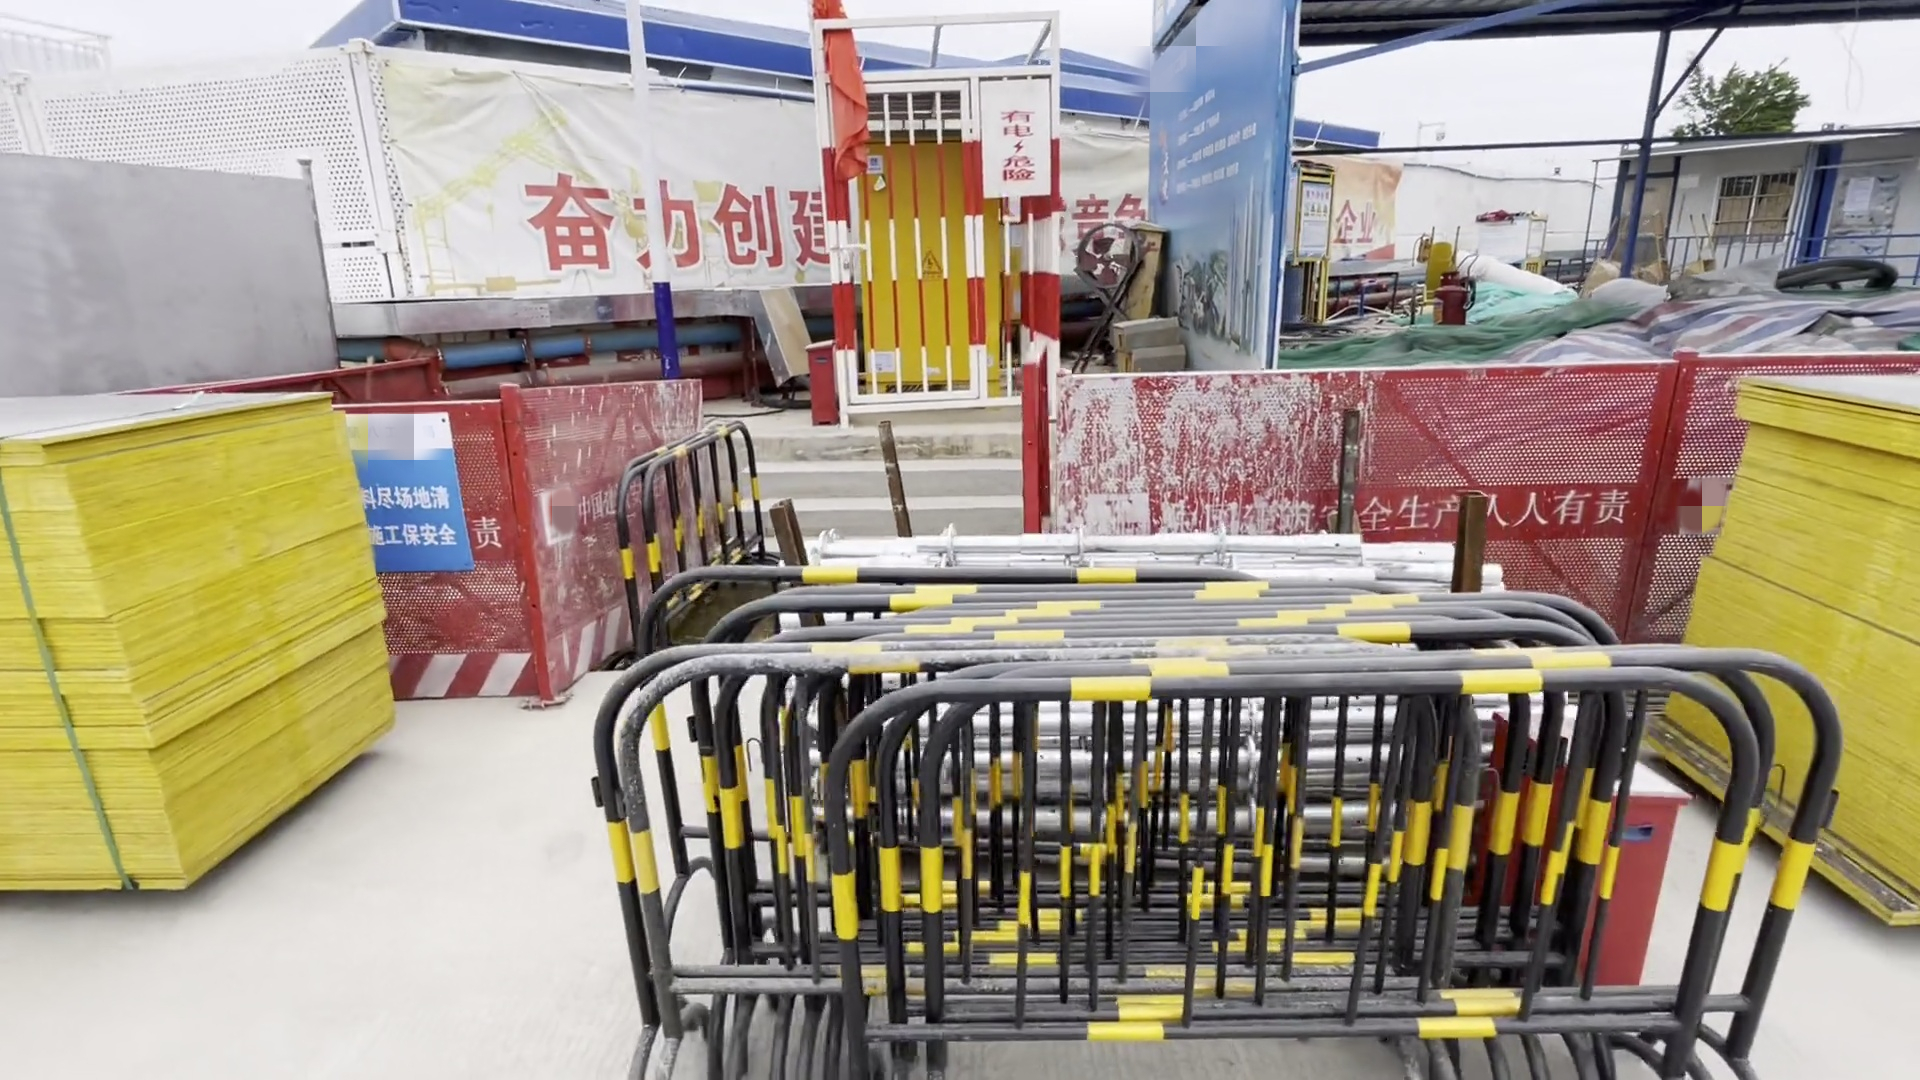board: (1, 385, 404, 926), (1654, 360, 1920, 943)
ebox: (853, 135, 1011, 392)
fence: (678, 580, 1731, 1047), (1055, 376, 1700, 595)
slogan: (525, 169, 829, 264)
